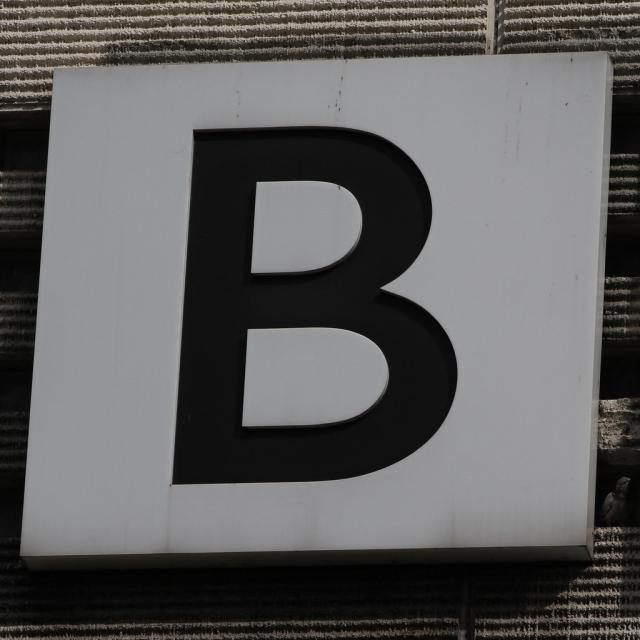B: (152, 108, 488, 512)
